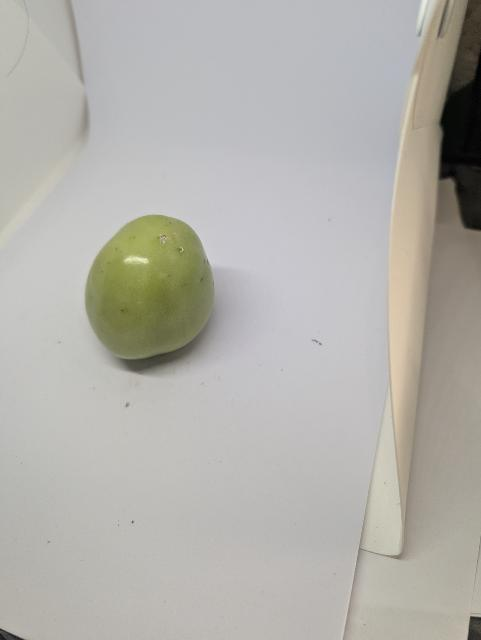green: (71, 191, 232, 377)
